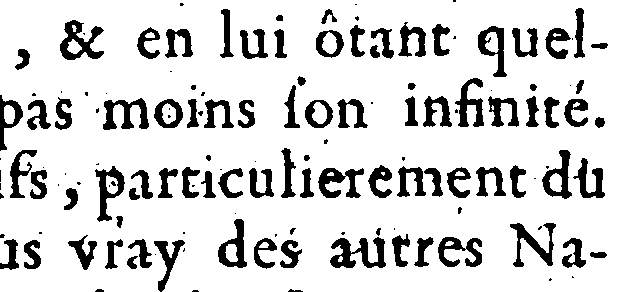o: (151, 96, 186, 133), (303, 101, 336, 129)
